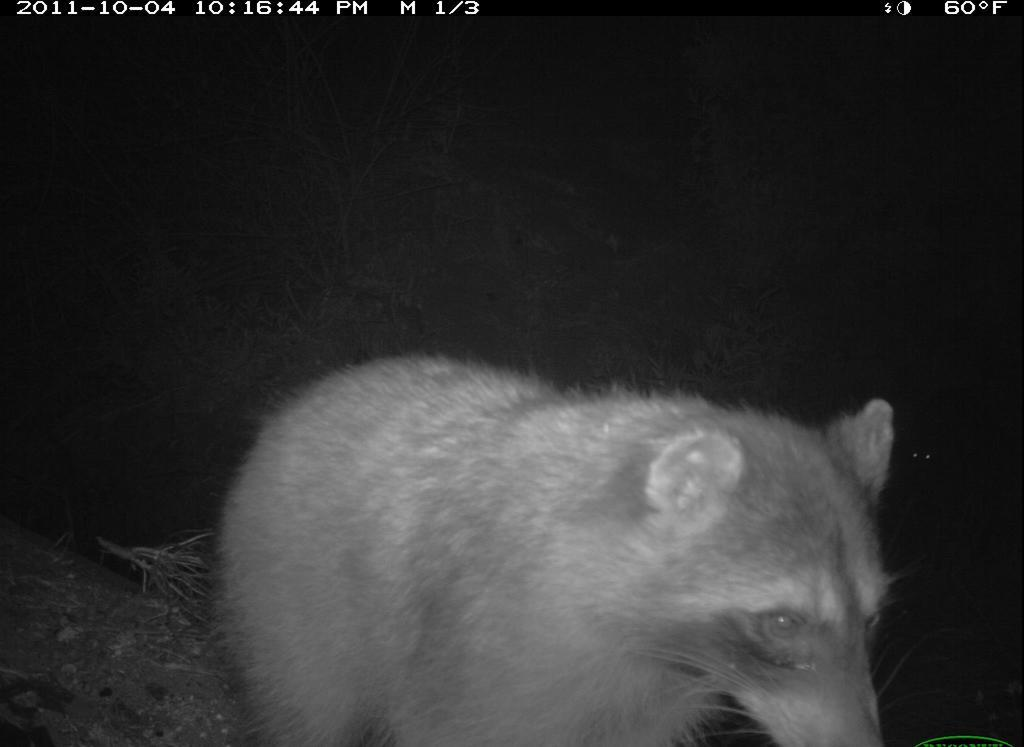raccoon: (196, 332, 909, 747)
